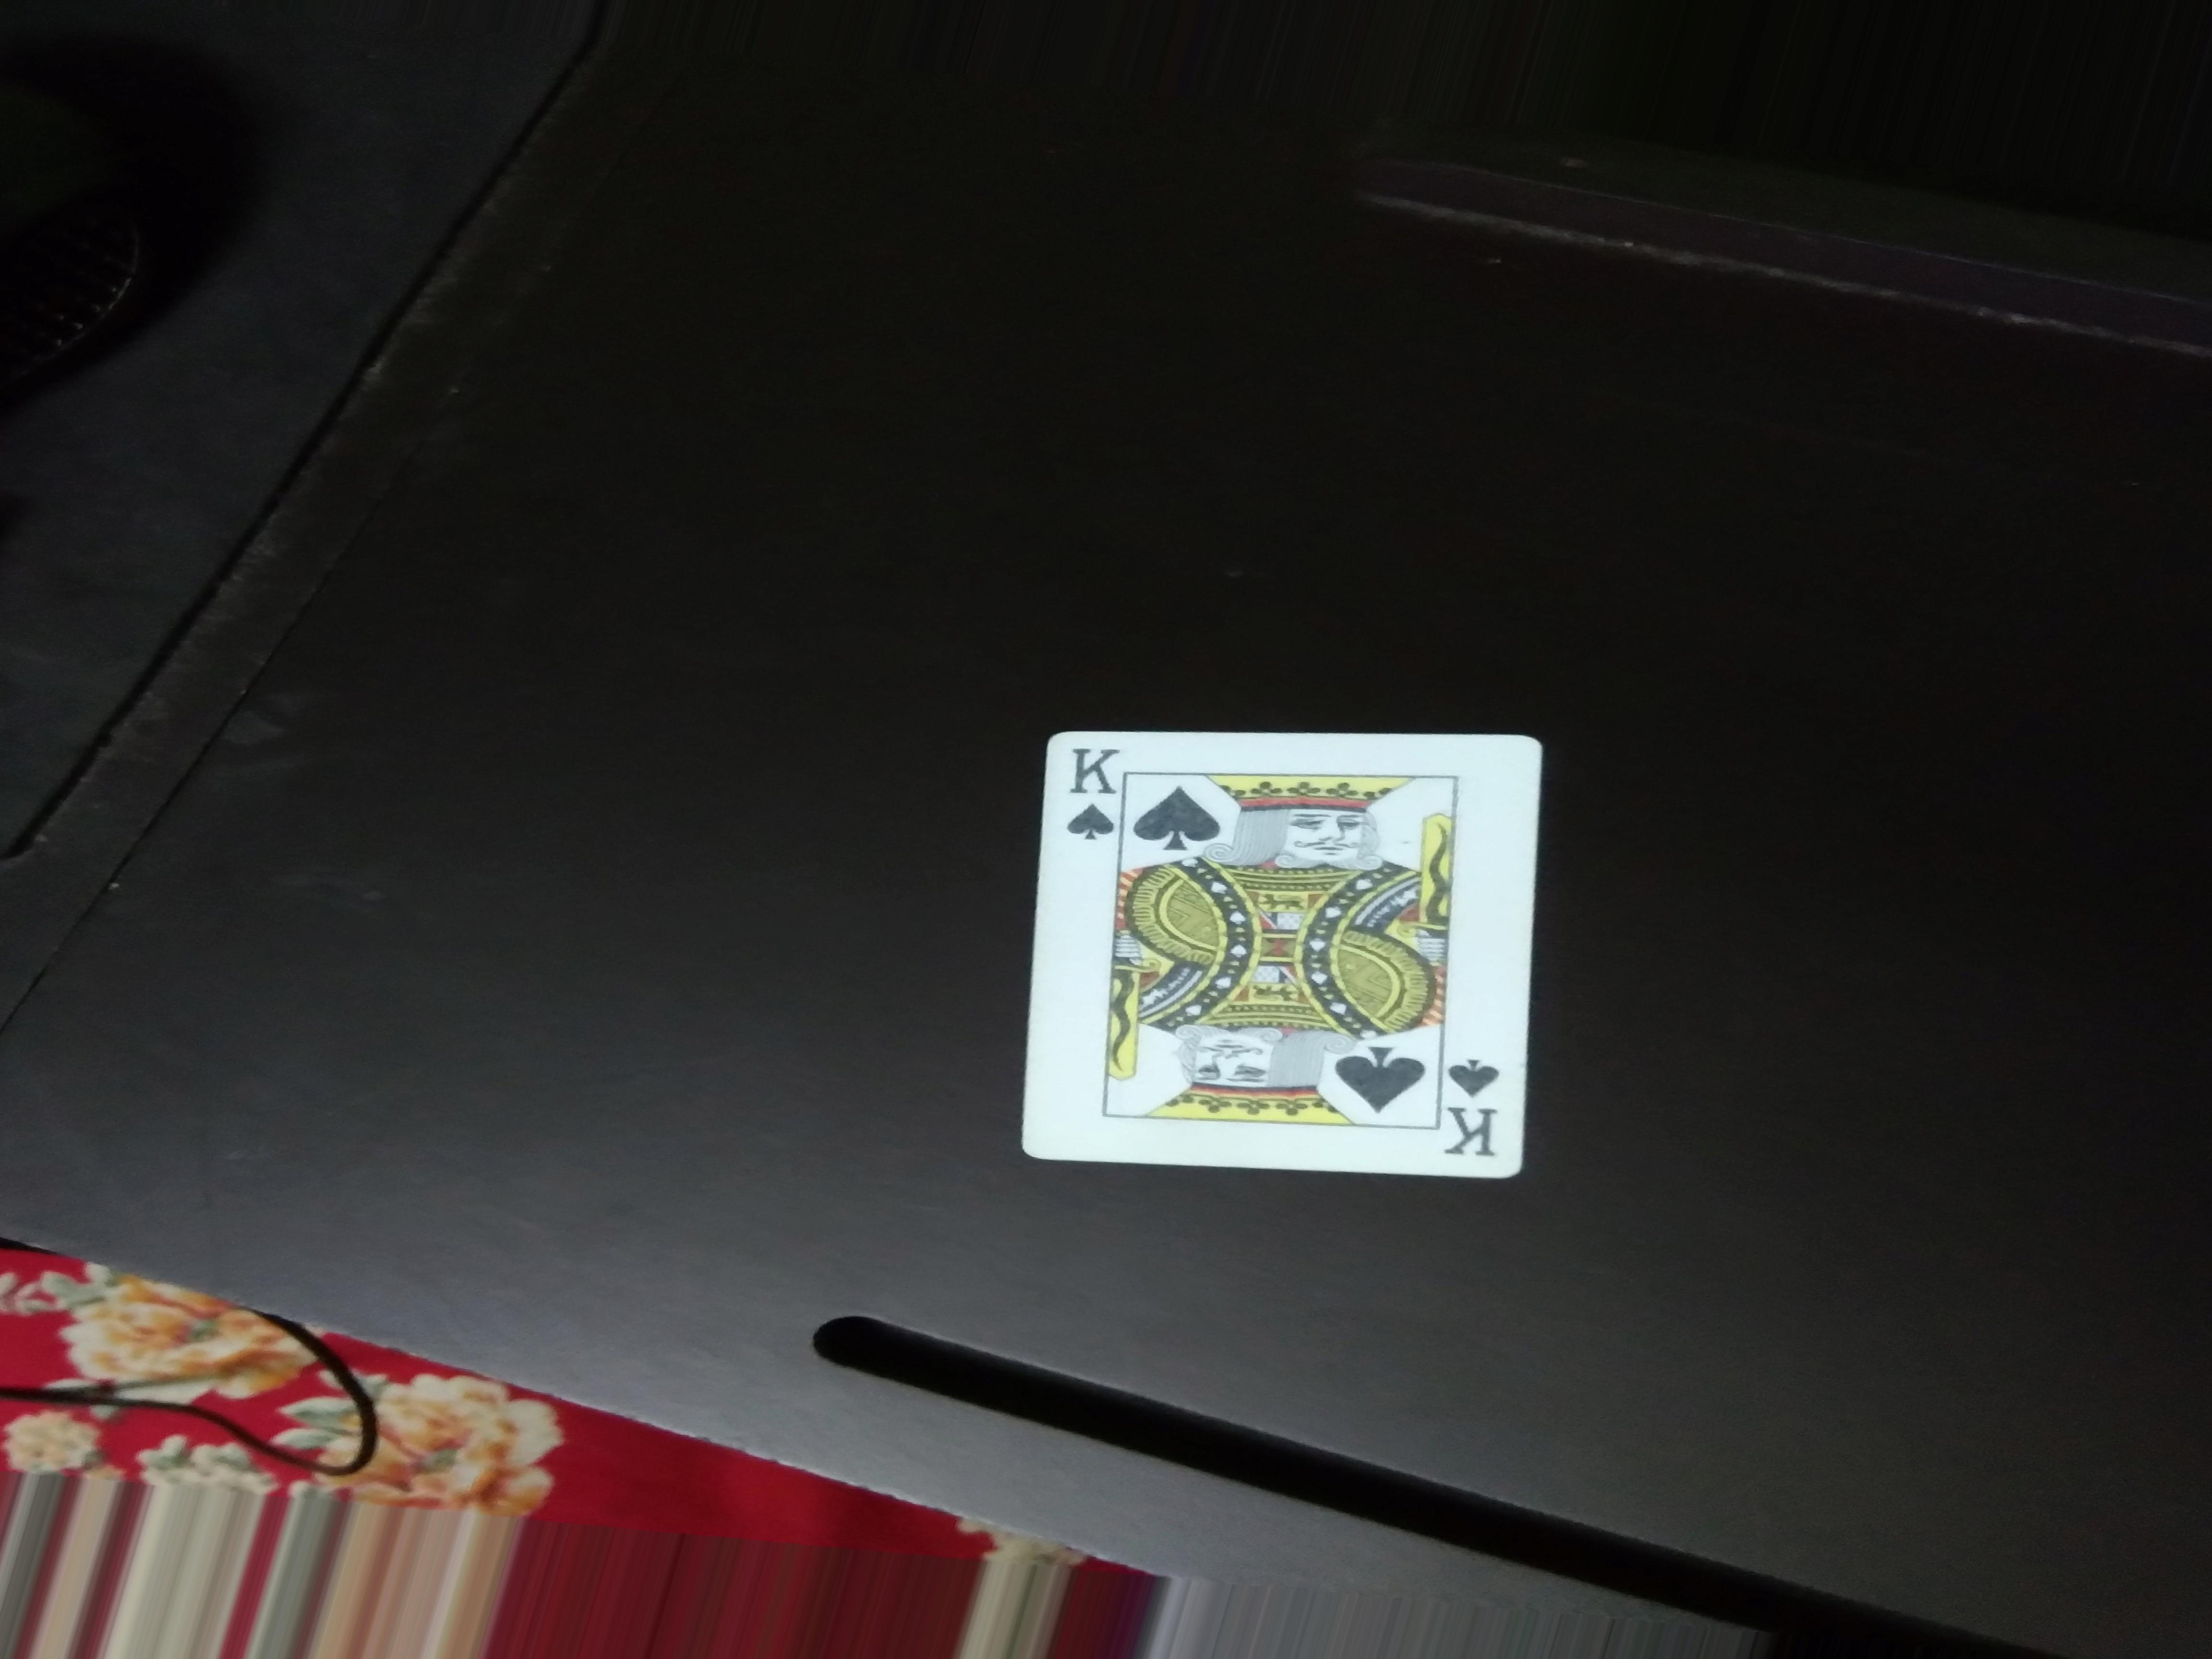KS: (1052, 730, 1122, 850)
